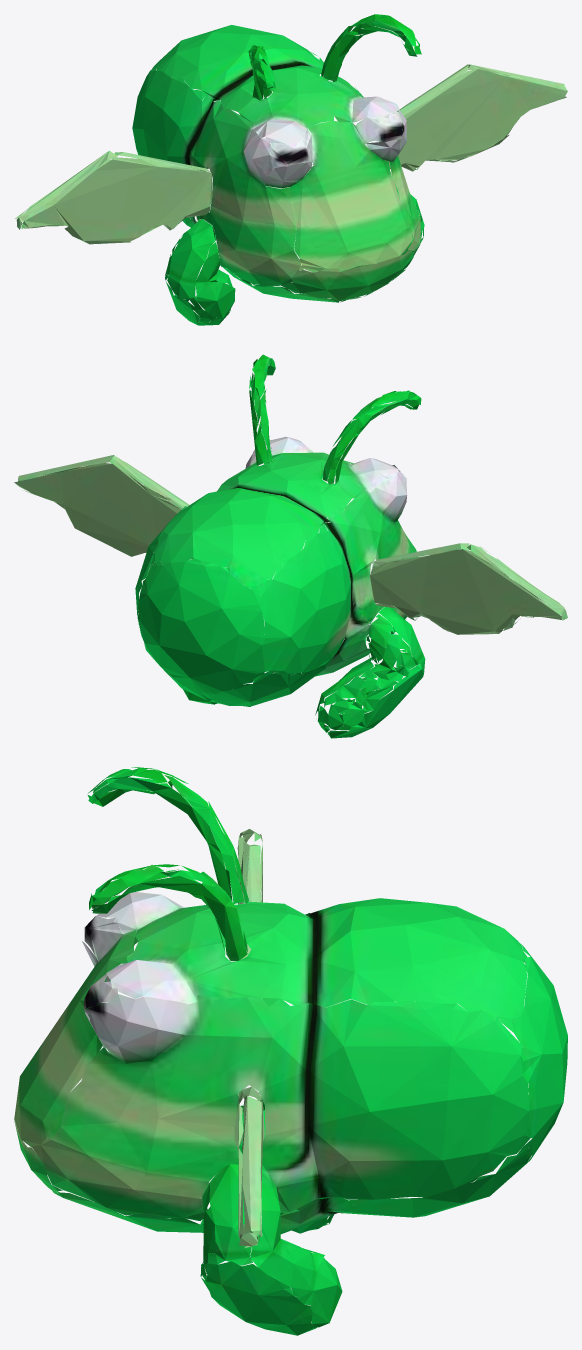
Rendered from toy-grasshopper.glb.
The picture shows the model from 3 angles, top to bottom: view 1: azimuth 30°, elevation 25°; view 2: azimuth 150°, elevation 25°; view 3: azimuth 270°, elevation 25°; orthographic projection. The views are drawn at different scales.
Visible parts, largest first — view 1: tmp3zetvsu6.ply; view 2: tmp3zetvsu6.ply; view 3: tmp3zetvsu6.ply.
Boxes of the visible parts, x1,y1,x2,y2 form: tmp3zetvsu6.ply: [15, 14, 567, 325]; tmp3zetvsu6.ply: [14, 354, 567, 738]; tmp3zetvsu6.ply: [14, 767, 567, 1335].
Bounding box in the file's own units: 1 × 0.5374 × 0.5805.
1 material, 1 textured.
